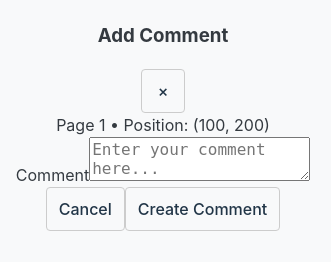
Test: CommentCreator › Form Submission › handles submission errors gracefully
Type "Test comment" into the text box labelled "Comment".
click(200, 159); type("Test comment")  # box [89,137,310,181]
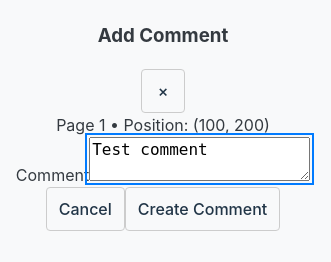
Click the button "Create Comment".
click(203, 209)  # box [125,187,280,231]
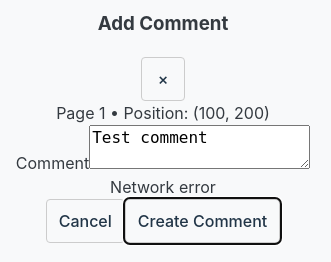
Now the button "Create Comment" is enabled, box [125,199,280,243]
Now the text "Network error" is shown, box [110,177,216,197]
